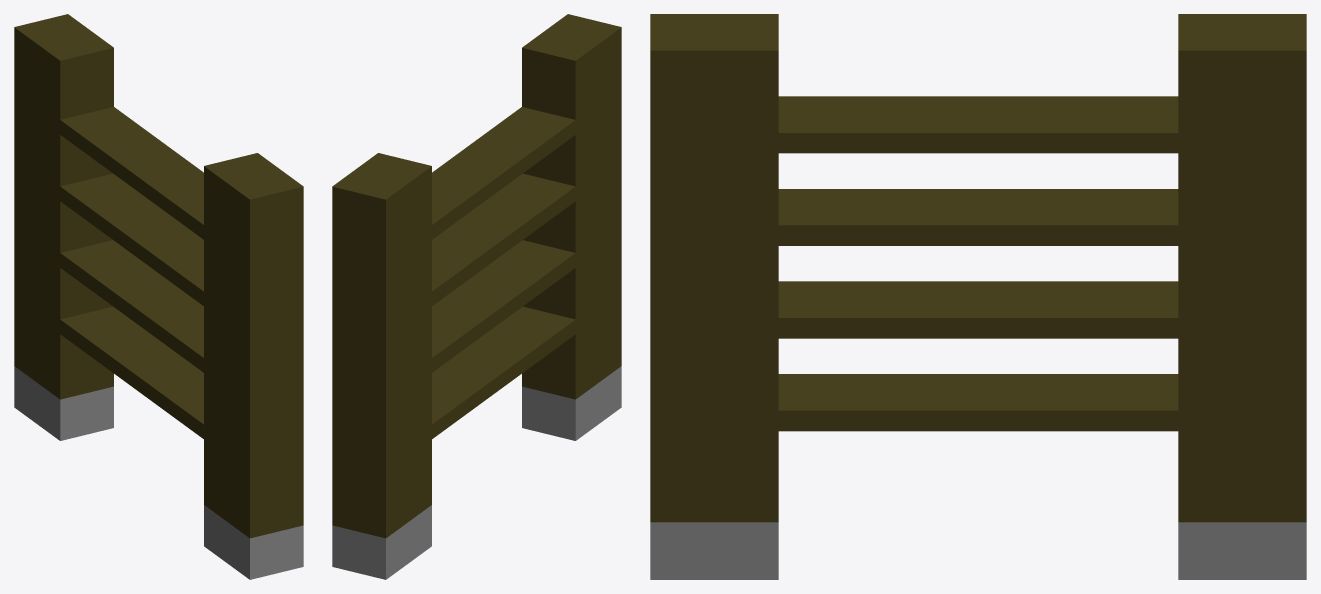
File: SHELFBOOK1.fbx
3 views of the same model, side by side, from view 1: azimuth 30°, elevation 25°; view 2: azimuth 150°, elevation 25°; view 3: azimuth 270°, elevation 25° (orthographic). The views are drawn at different scales.
Visible parts, largest first — view 1: Cube.008; view 2: Cube.008; view 3: Cube.008.
Part boxes in pixels (x1,y1,x2,y2): Cube.008: [14, 14, 303, 579]; Cube.008: [332, 14, 621, 579]; Cube.008: [650, 14, 1306, 579].
Bounding box in the file's own units: 201 × 1359 × 1528.
